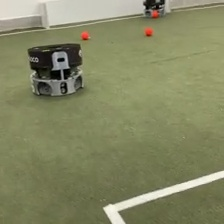ball: (143, 26, 153, 36), (81, 30, 89, 39), (151, 9, 159, 17)
goal: (38, 1, 172, 30)
robot: (27, 41, 84, 98), (142, 1, 166, 18)
